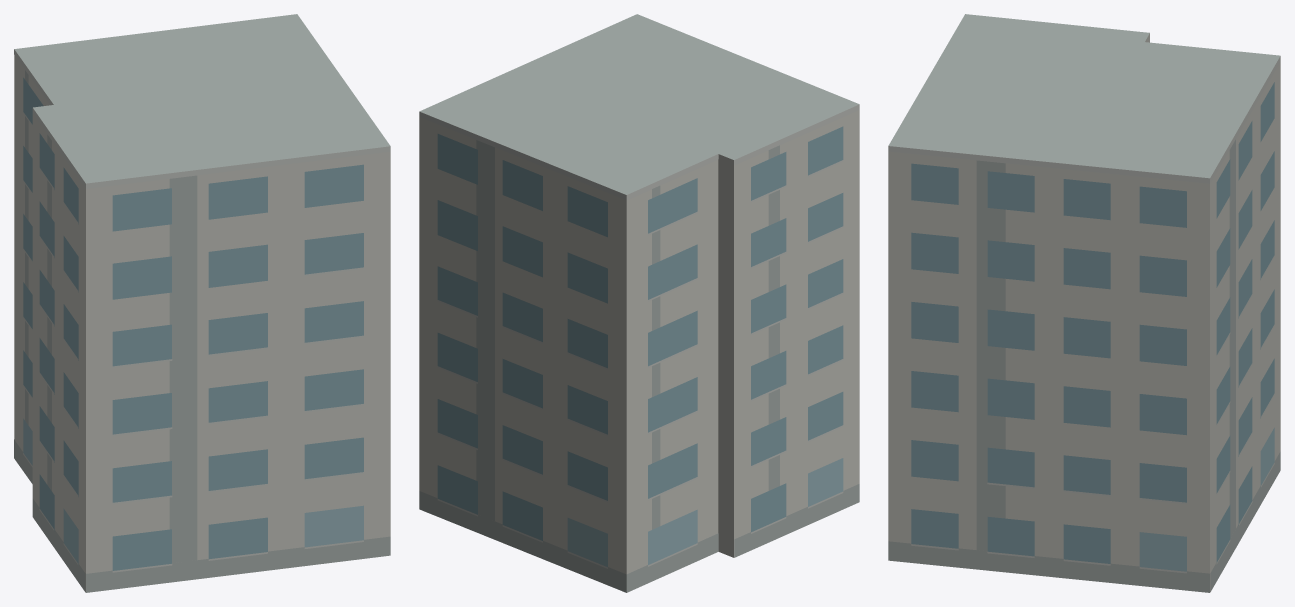
The model's file is survey-upis-32701293.glb.
3 renders of one model, left to right at view 1: azimuth 30°, elevation 25°; view 2: azimuth 150°, elevation 25°; view 3: azimuth 270°, elevation 25°, orthographic. The views are drawn at different scales.
Parts seen in each view (by area): view 1: survey-upis-32701293.tmp; view 2: survey-upis-32701293.tmp; view 3: survey-upis-32701293.tmp.
Part boxes in pixels (<box>): survey-upis-32701293.tmp: <box>14,14,390,592</box>; survey-upis-32701293.tmp: <box>419,14,859,592</box>; survey-upis-32701293.tmp: <box>888,14,1280,592</box>.
Size of the model in its own units: 15.31 by 18 by 15.45.
